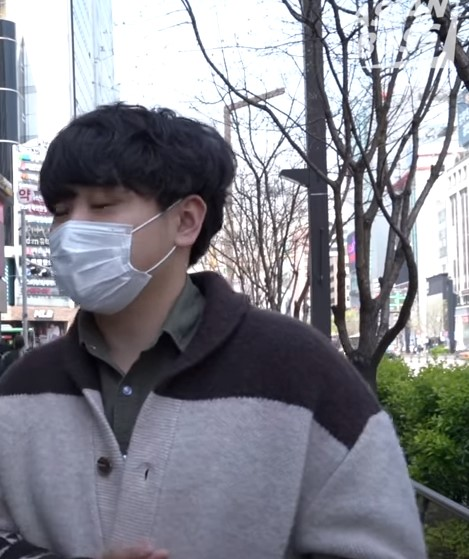face_with_mask: (37, 100, 230, 318)
